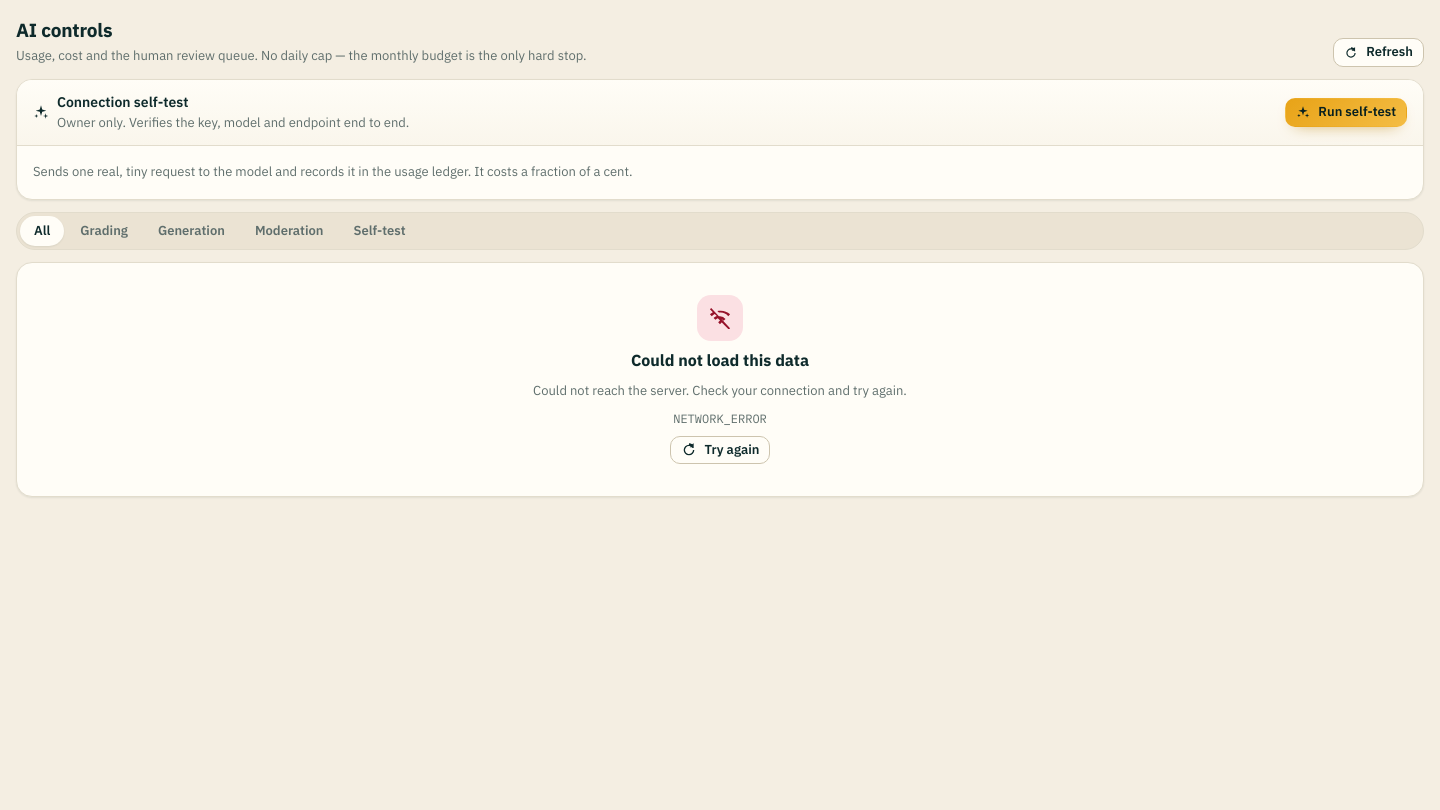
Test case: AiPage › shows a failed fetch as an error with a retry, never as an empty ledger
Check: the message shows "Could not load this data", box [631, 349, 809, 373]
Click the button "Try again" at (720,450), box [670, 436, 770, 464]
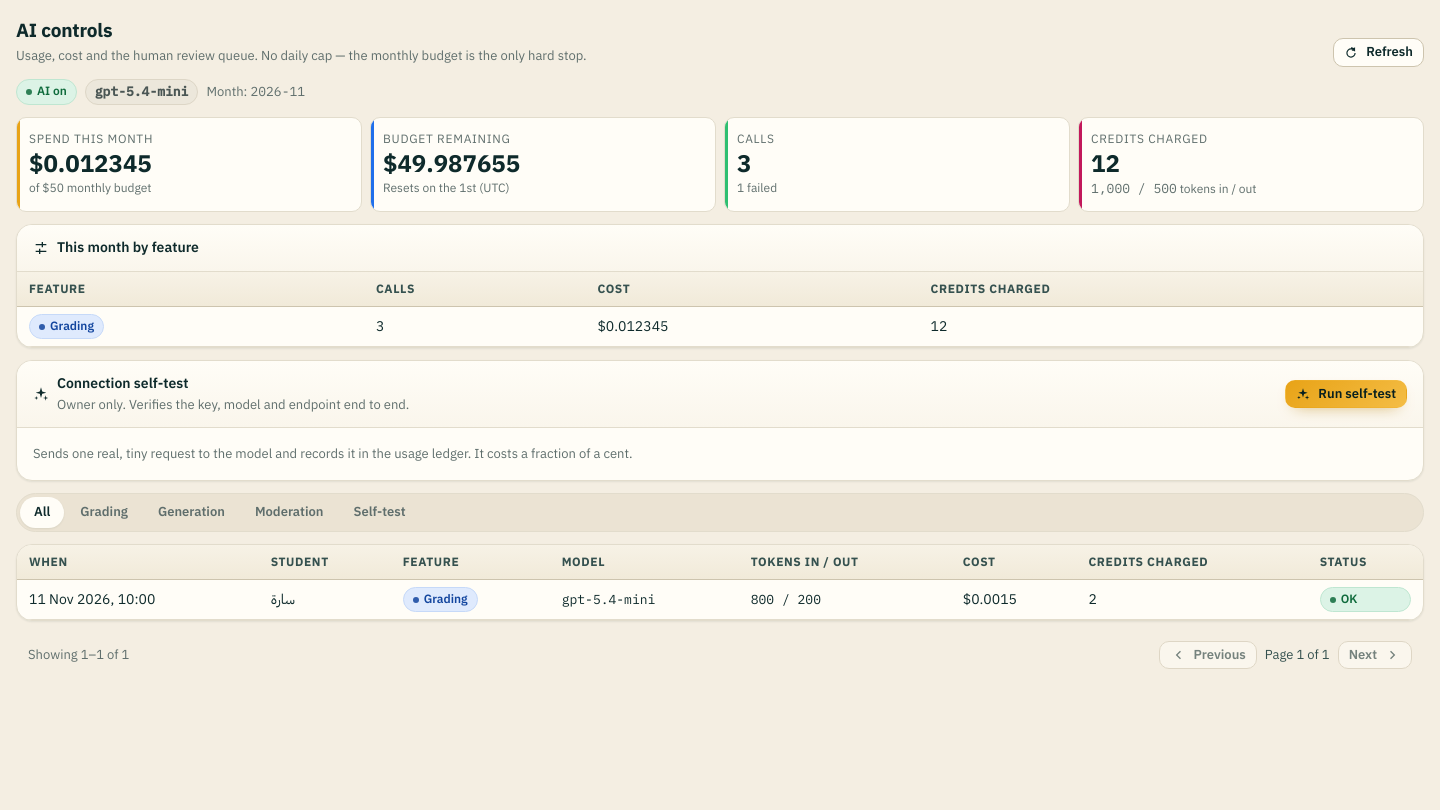
Check: the text "سارة" is shown, box [259, 580, 391, 620]
